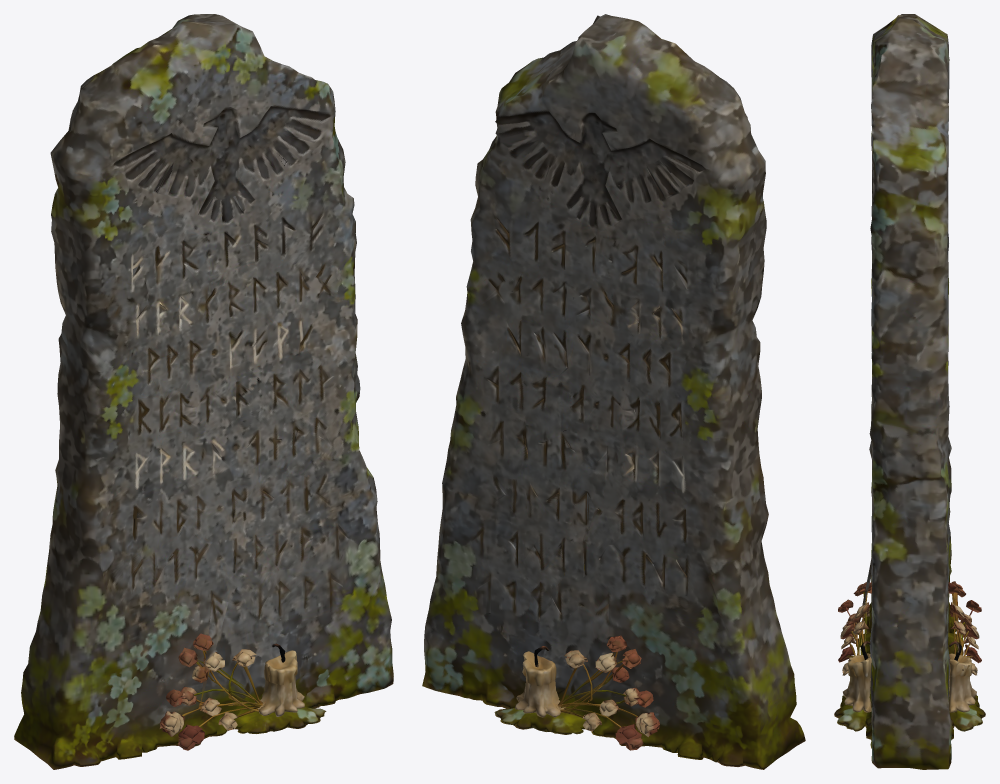
File: MemoryStone.fbx
3 views of the same model, side by side, from view 1: azimuth 30°, elevation 25°; view 2: azimuth 150°, elevation 25°; view 3: azimuth 270°, elevation 25° (orthographic). The views are drawn at different scales.
Visible parts, largest first — view 1: geometry_0; view 2: geometry_0; view 3: geometry_0.
Boxes of the visible parts, x1,y1,x2,y2 form: geometry_0: [14, 14, 393, 769]; geometry_0: [422, 14, 805, 769]; geometry_0: [834, 14, 985, 769].
Size of the model in its own units: 49.37 by 95.21 by 19.78.
1 material, 1 textured.
